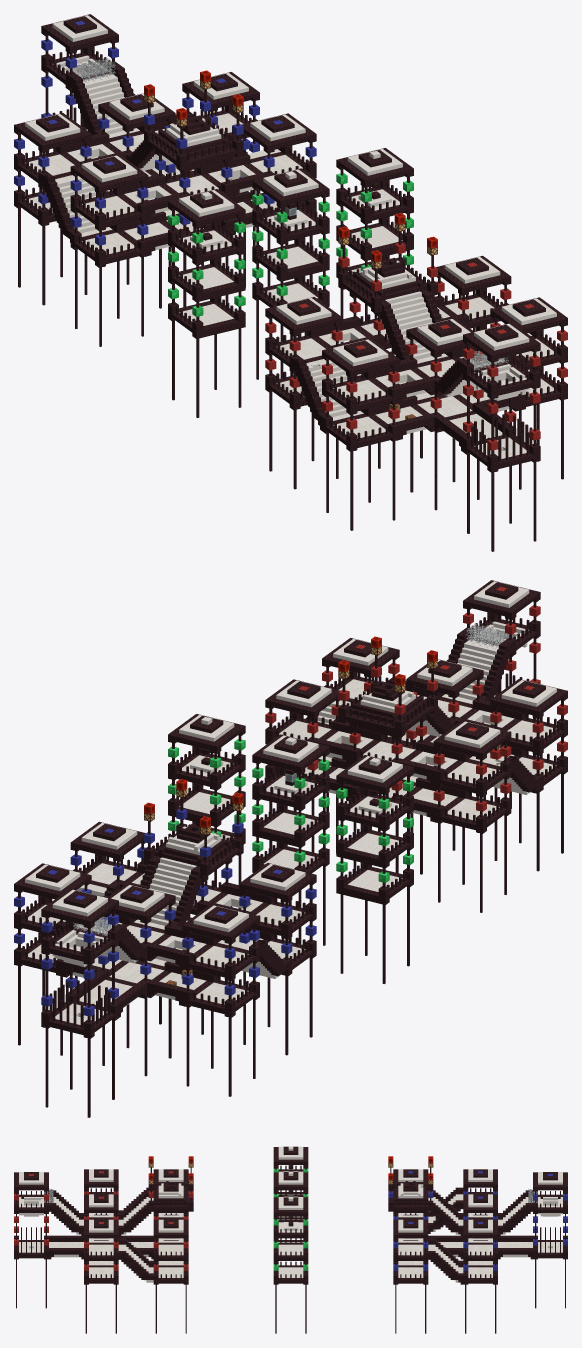
The model's file is minecraft.obj.
The picture shows the model from 3 angles, top to bottom: view 1: azimuth 30°, elevation 25°; view 2: azimuth 150°, elevation 25°; view 3: azimuth 270°, elevation 25°; orthographic projection. The views are drawn at different scales.
Bounding box in the file's own units: 31 × 30 × 111.
